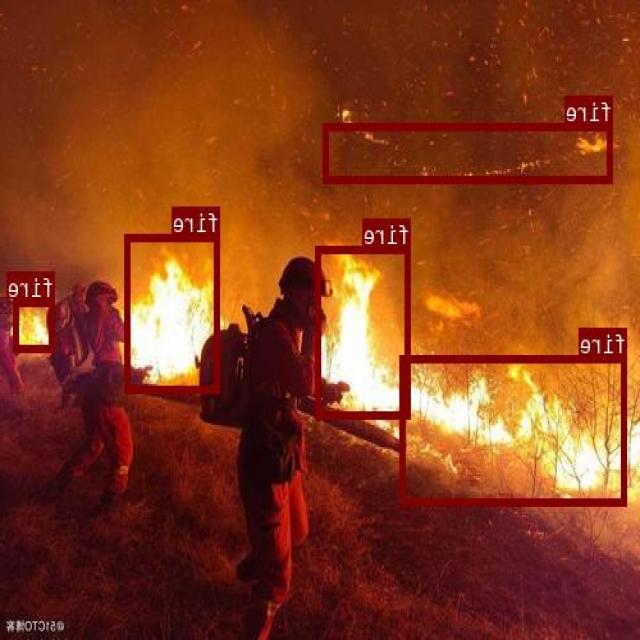fire: (402, 354, 628, 504), (325, 122, 613, 182), (317, 246, 412, 417), (126, 234, 222, 392), (15, 298, 55, 350)
